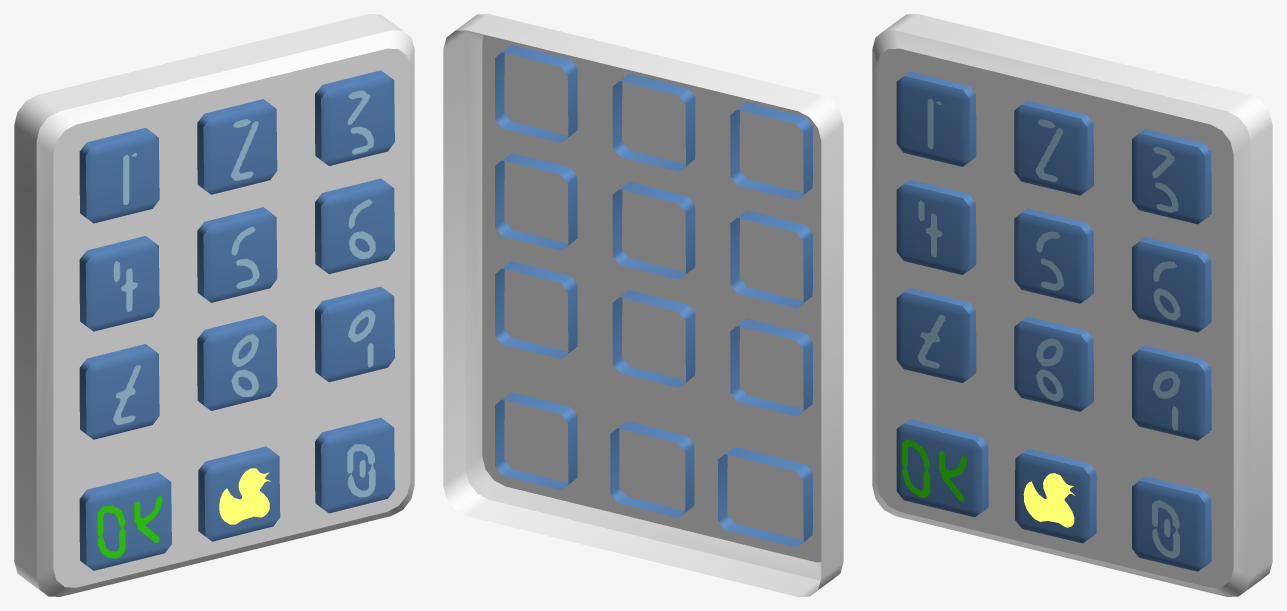
Rendered from Misc_PinPad_B.fbx.
3 views of the same model, side by side, from view 1: azimuth 30°, elevation 25°; view 2: azimuth 150°, elevation 25°; view 3: azimuth 330°, elevation 25° (orthographic).
Visible parts, largest first — view 1: Misc_PinPad_B.001; view 2: Misc_PinPad_B.001; view 3: Misc_PinPad_B.001.
Part boxes in pixels (x1,y1,x2,y2): Misc_PinPad_B.001: (14, 14, 414, 596); Misc_PinPad_B.001: (443, 14, 843, 596); Misc_PinPad_B.001: (872, 14, 1272, 596).
Size of the model in its own units: 0.1377 by 0.1691 by 0.0239.
Materials: 4 (1 with a texture image).
